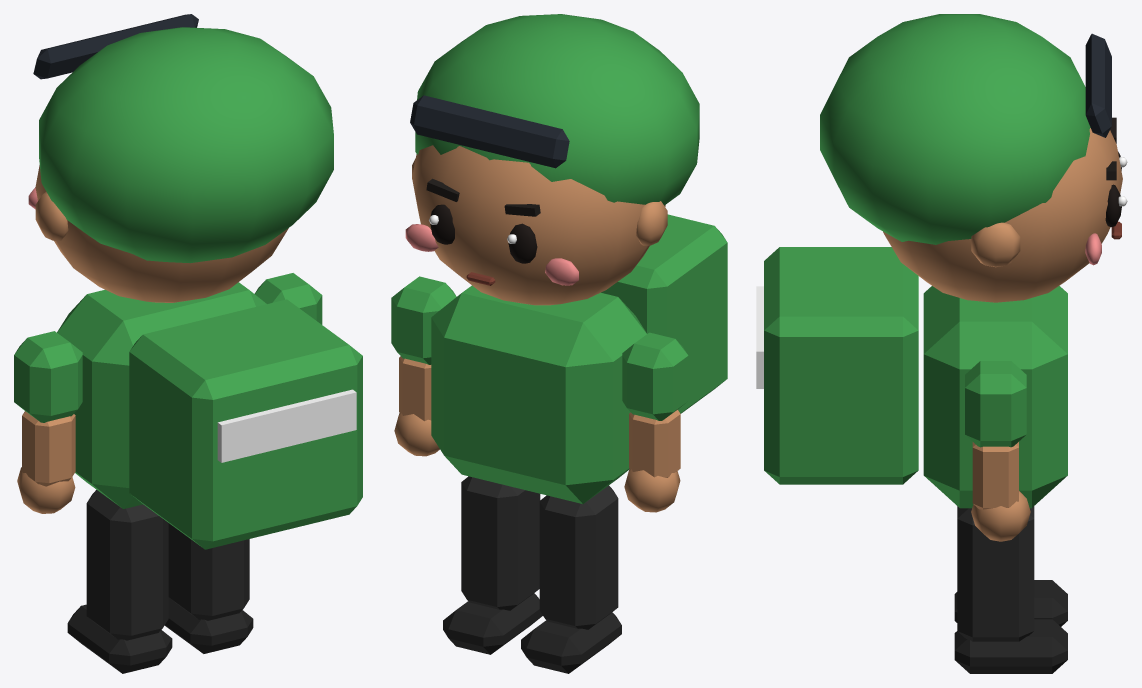
File: rider.glb
3 renders of one model, left to right at view 1: azimuth 30°, elevation 25°; view 2: azimuth 150°, elevation 25°; view 3: azimuth 270°, elevation 25°, orthographic. The views are drawn at different scales.
Parts seen in each view (by area): view 1: HeadMesh, TorsoMesh, LegLMesh, ArmLMesh, LegRMesh, ArmRMesh; view 2: HeadMesh, TorsoMesh, LegLMesh, LegRMesh, ArmLMesh, ArmRMesh; view 3: HeadMesh, TorsoMesh, LegRMesh, ArmRMesh, LegLMesh.
Part boxes in pixels (x1=…): HeadMesh: x1=28, y1=14, x2=333, y2=302; TorsoMesh: x1=57, y1=282, x2=362, y2=549; LegLMesh: x1=67, y1=490, x2=172, y2=673; ArmLMesh: x1=14, y1=331, x2=82, y2=513; LegRMesh: x1=164, y1=523, x2=253, y2=653; ArmRMesh: x1=254, y1=273, x2=322, y2=324; HeadMesh: x1=405, y1=14, x2=699, y2=305; TorsoMesh: x1=431, y1=214, x2=727, y2=503; LegLMesh: x1=521, y1=485, x2=621, y2=673; LegRMesh: x1=443, y1=476, x2=542, y2=654; ArmLMesh: x1=622, y1=332, x2=688, y2=512; ArmRMesh: x1=391, y1=276, x2=456, y2=456; HeadMesh: x1=820, y1=14, x2=1127, y2=302; TorsoMesh: x1=756, y1=247, x2=1067, y2=508; LegRMesh: x1=954, y1=506, x2=1067, y2=673; ArmRMesh: x1=965, y1=361, x2=1030, y2=541; LegLMesh: x1=954, y1=580, x2=1067, y2=626.
Size of the model in its own units: 0.65 by 1.32 by 0.721.
